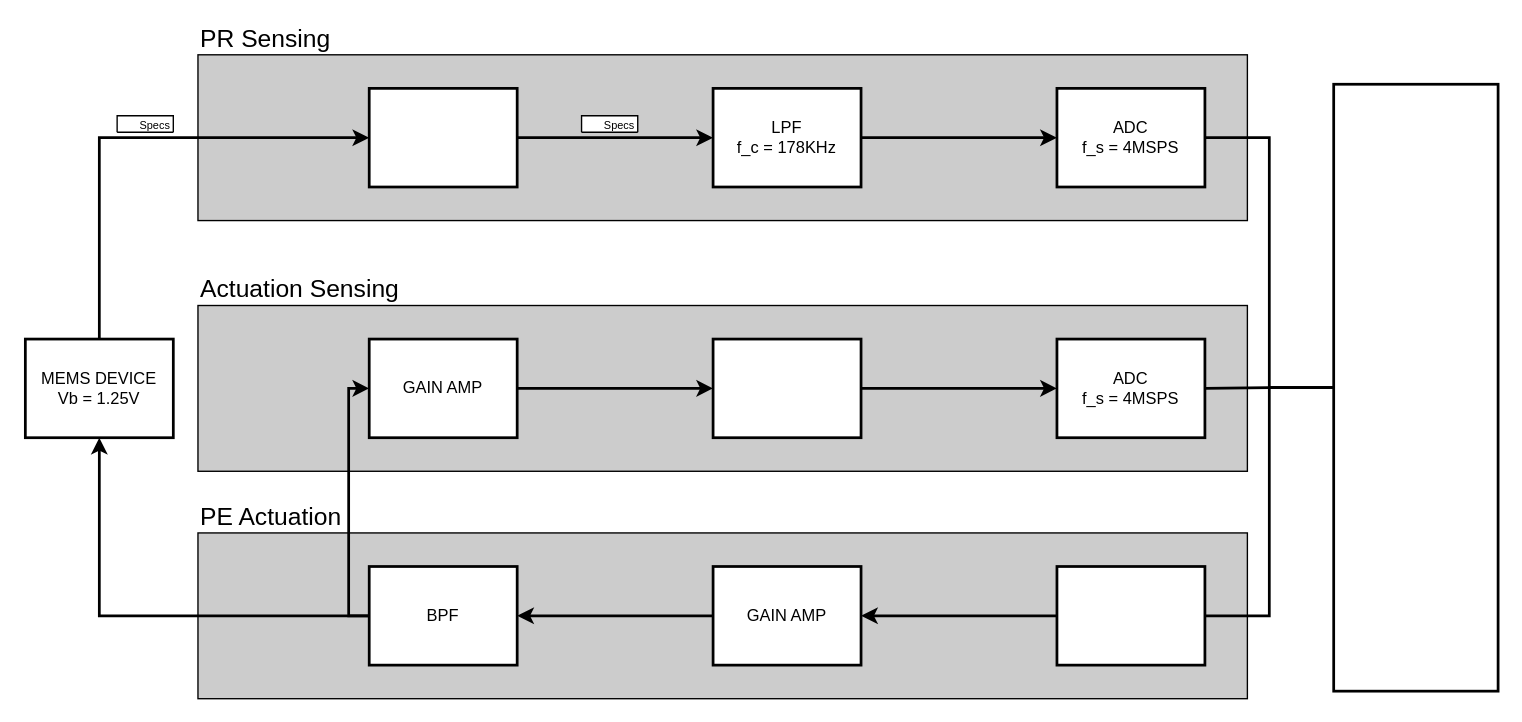
This 1522x722 diagram has some shape labels left out. Each missing label, with the centre of its shape:
DAC or DDS: the point at 1130,615
GAIN AMP G = 2000: the point at 442,137
LPF: the point at 786,387
MCU: the point at 1415,387
